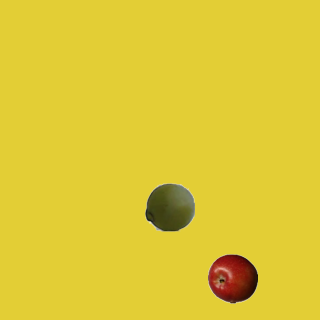Apple Braeburn: (207, 253, 257, 303)
Grape White 4: (144, 181, 194, 231)
